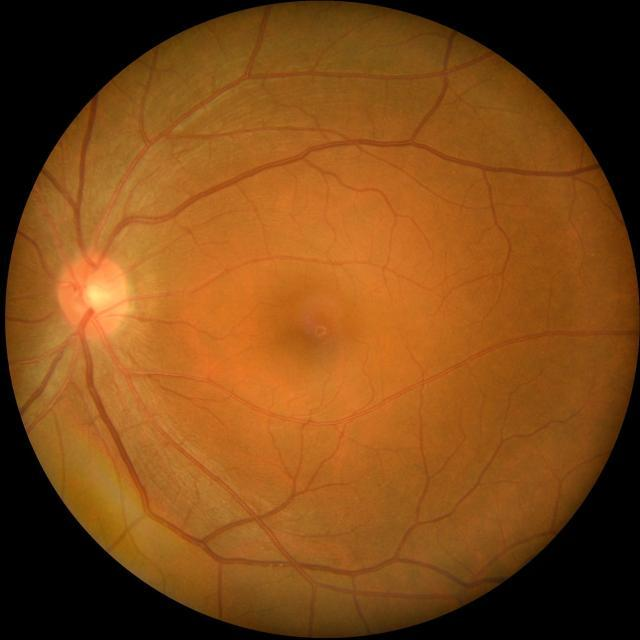OC: (80, 280, 112, 312)
OD: (56, 255, 128, 338)
